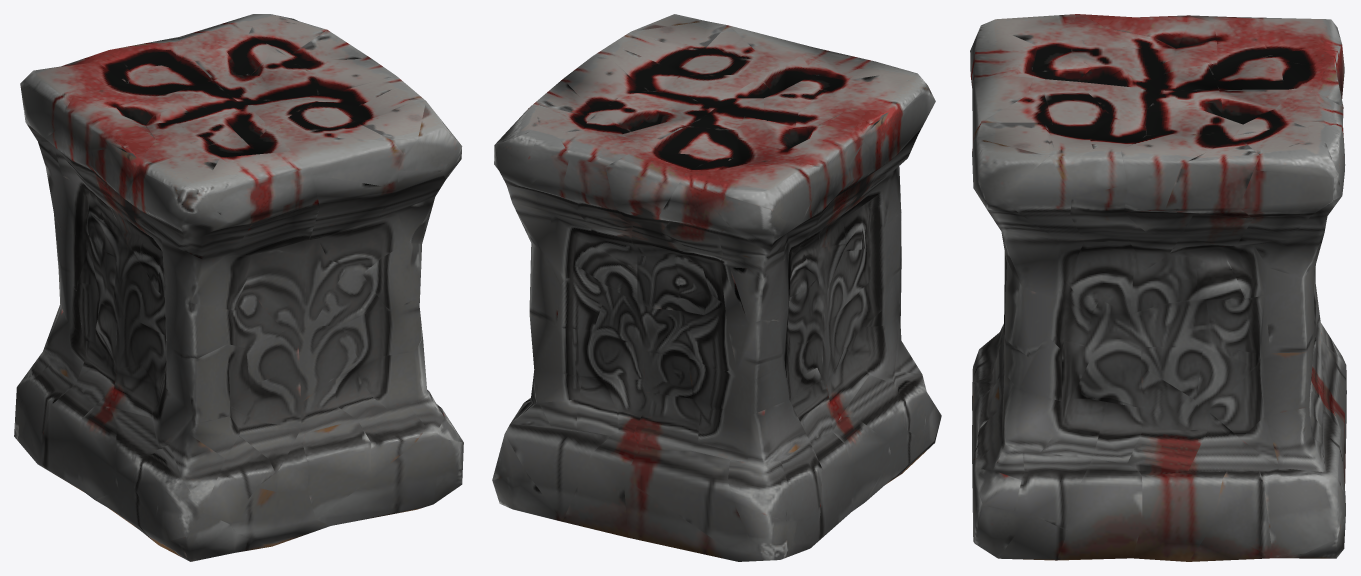
Rendered from sacrificial_pedestal.glb.
3 renders of one model, left to right at view 1: azimuth 30°, elevation 25°; view 2: azimuth 150°, elevation 25°; view 3: azimuth 270°, elevation 25°, orthographic. The views are drawn at different scales.
Bounding box in the file's own units: 1.63 × 2 × 1.66.
Materials: 1 (1 with a texture image).
